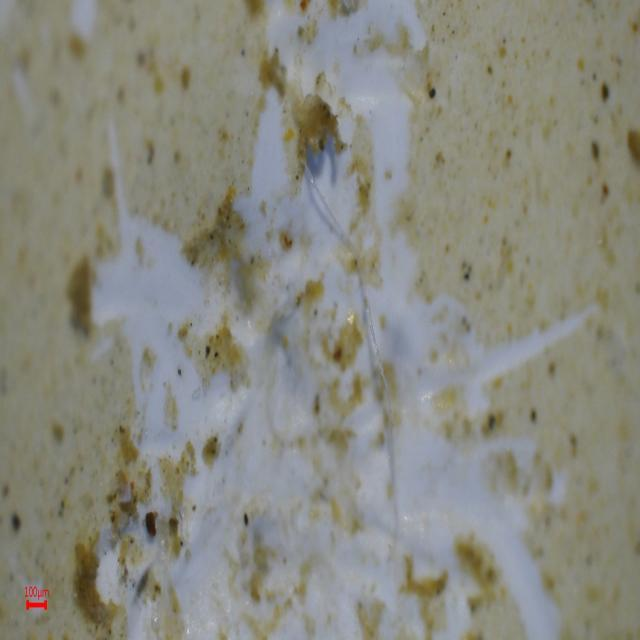fibers: (303, 154, 422, 540)
